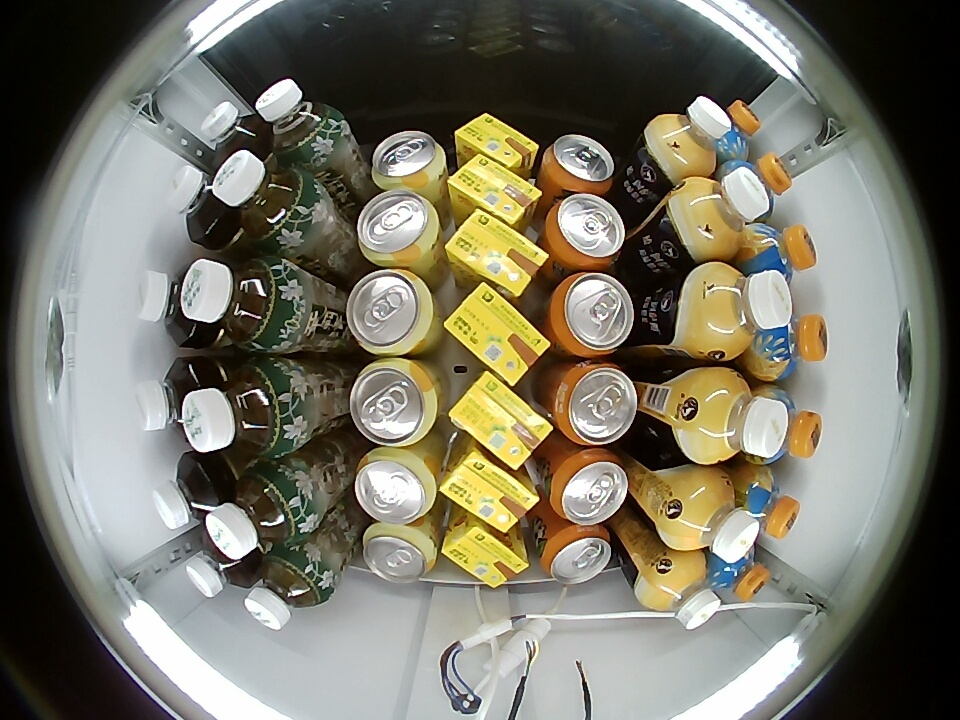asamu: (687, 372, 789, 464), (695, 264, 793, 357), (680, 167, 770, 261), (669, 475, 760, 563), (649, 96, 732, 175), (647, 558, 722, 630)
fenda: (554, 361, 639, 445), (551, 272, 635, 357), (546, 193, 626, 270), (550, 449, 630, 525), (543, 133, 616, 194), (541, 526, 613, 585)
guolicheng: (750, 383, 823, 464), (748, 314, 829, 381), (739, 223, 818, 282), (736, 466, 800, 538), (734, 152, 793, 222), (707, 548, 771, 607), (714, 99, 761, 161)
mangguoxiaolao: (349, 358, 440, 447), (346, 269, 435, 357), (356, 189, 440, 268), (354, 448, 438, 525), (361, 523, 438, 584), (371, 130, 447, 191)
moliqingcha: (183, 357, 299, 456), (213, 150, 324, 252), (183, 256, 297, 353), (205, 462, 312, 559), (255, 78, 345, 165), (244, 546, 332, 630)
weitaningmeng: (444, 283, 551, 384), (449, 370, 553, 468), (445, 208, 548, 297), (440, 445, 540, 532), (448, 155, 541, 226), (442, 518, 530, 589), (454, 112, 540, 171)
wulongcha: (136, 263, 206, 347), (133, 358, 207, 435), (151, 454, 222, 530), (167, 165, 228, 240), (185, 533, 252, 597), (199, 101, 267, 164)
